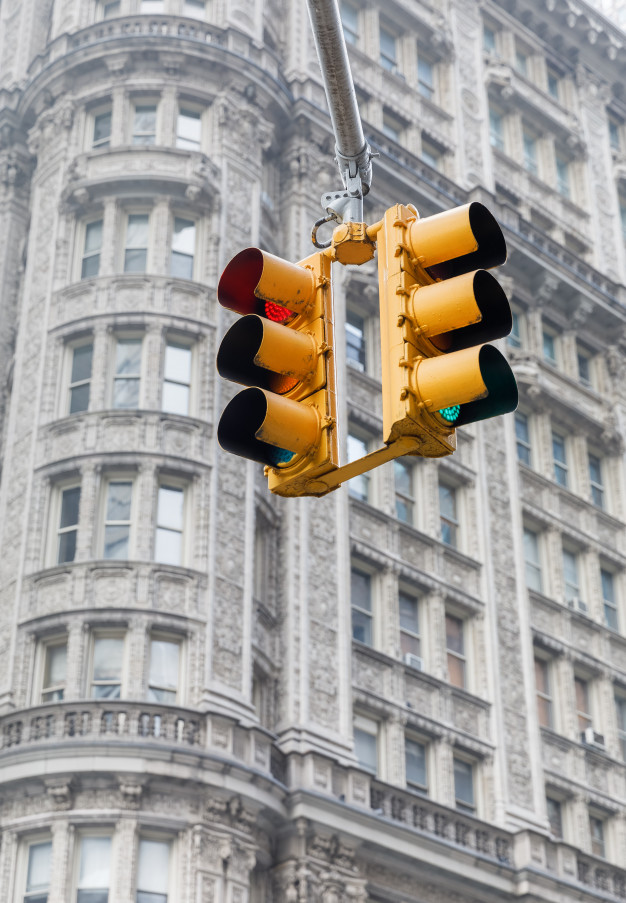traffic light: (216, 246, 347, 503), (379, 208, 516, 447)
